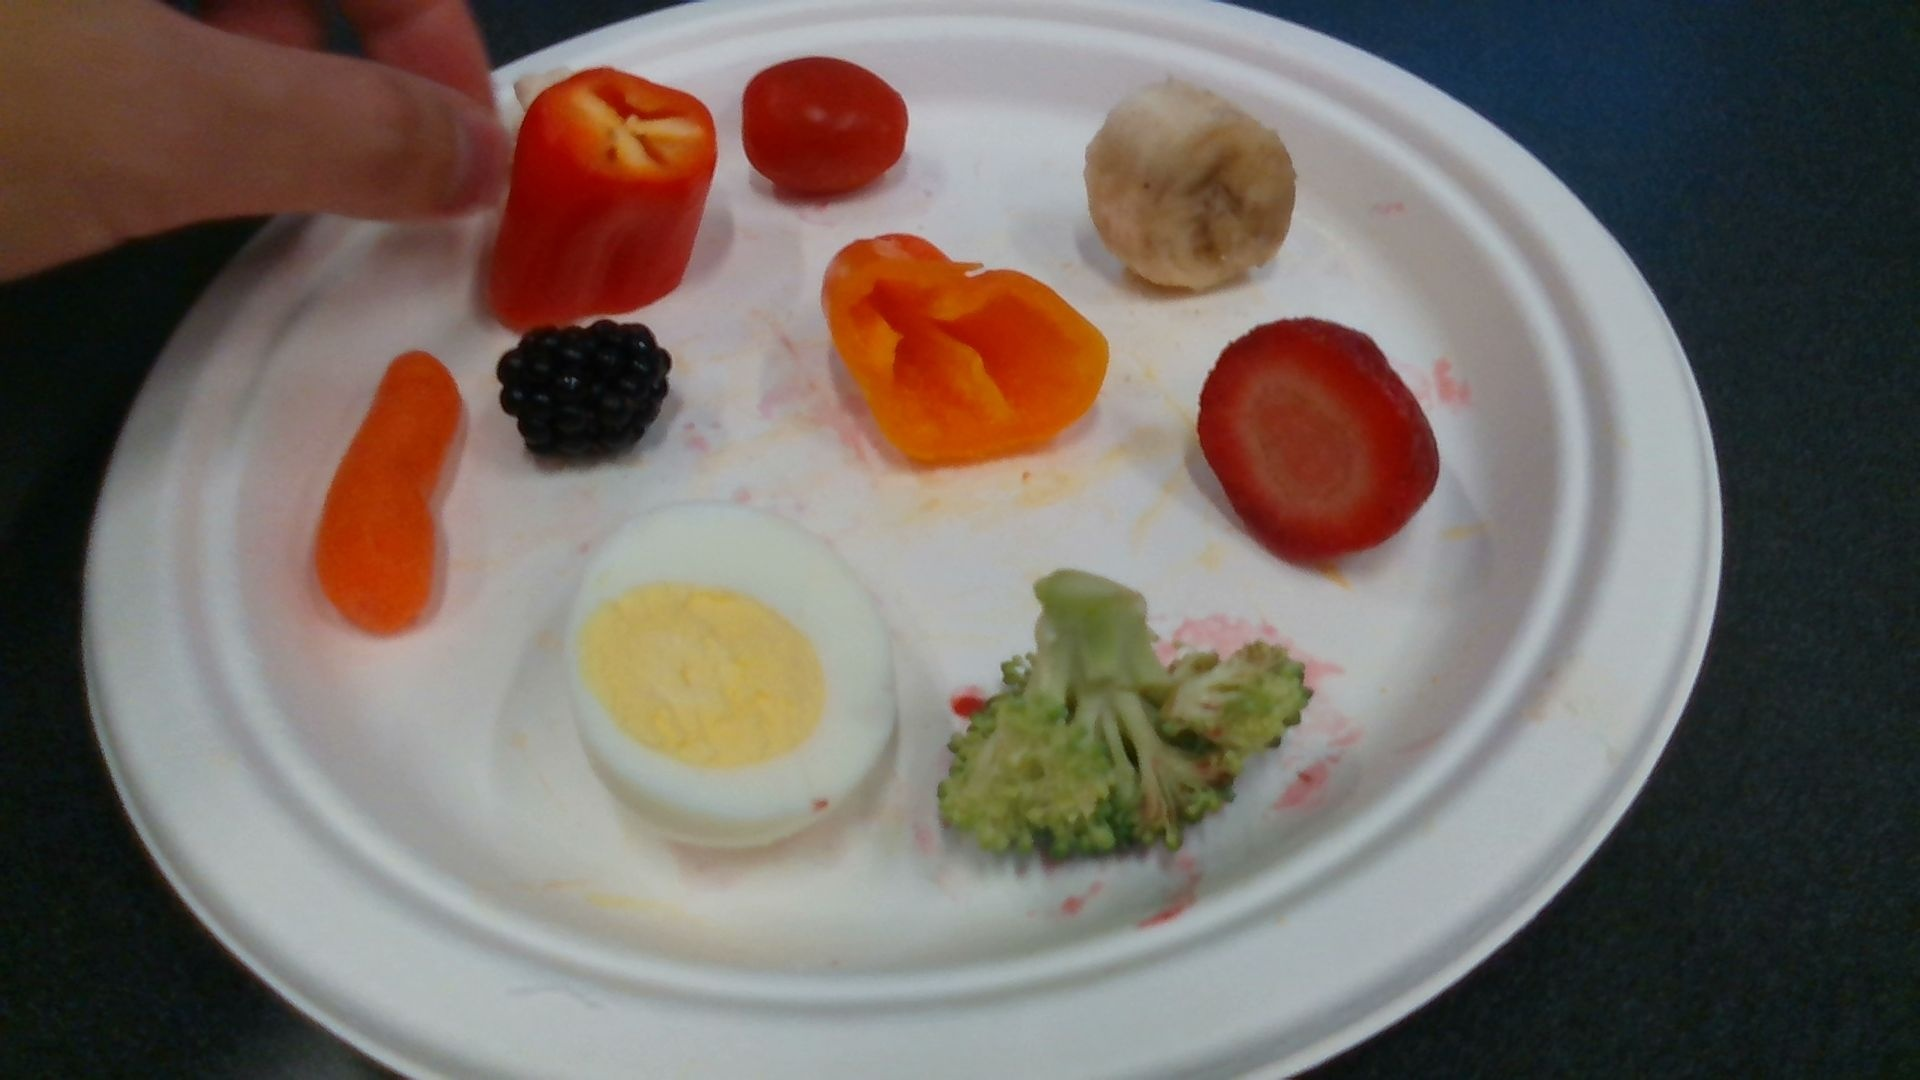banana: (1084, 83, 1295, 287)
bell_pepper: (824, 235, 1110, 458), (487, 70, 717, 328)
blackberry: (500, 320, 669, 462)
broccoli: (938, 575, 1304, 858)
carrot: (316, 353, 459, 633)
cherry_tomato: (742, 61, 905, 189)
egg: (568, 505, 895, 843)
strawberry: (1197, 318, 1440, 560)
